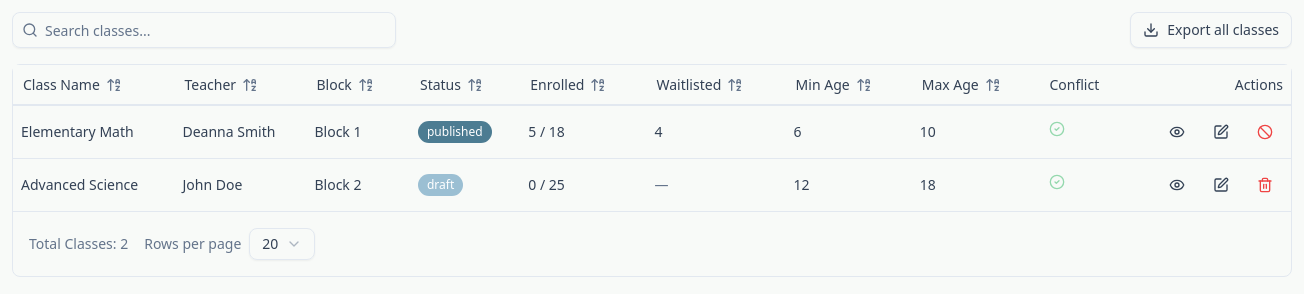
Test: AdminClassTable › clears search when X button is clicked
Type "Math" into the field with test id "class-search-input".
click(204, 30); type("Math")  # box [12, 12, 396, 48]
Wait 300 ms
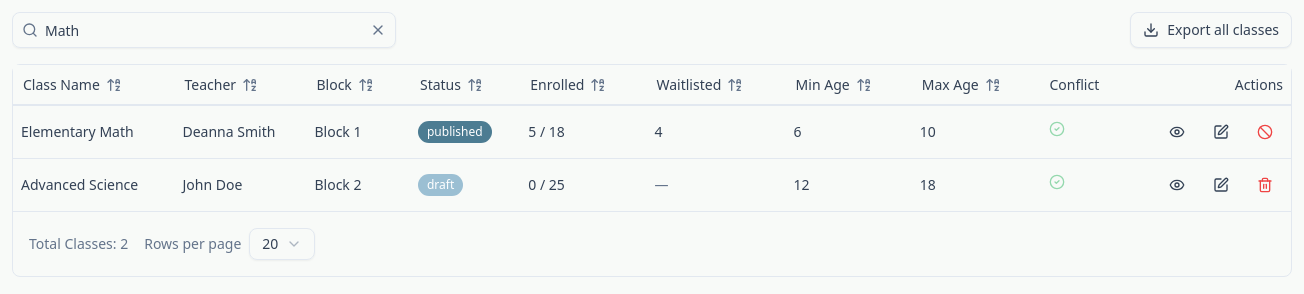
Click the button with test id "class-search-clear".
click(378, 30)  # box [370, 22, 386, 38]
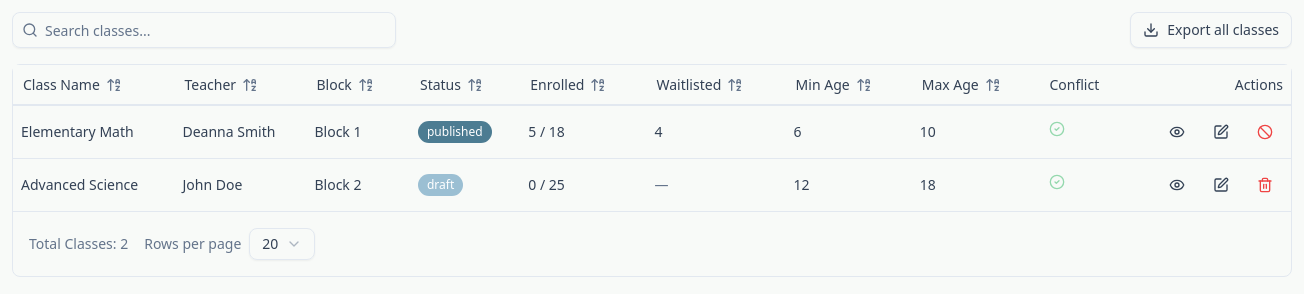
Result: the field with test id "class-search-input" is empty at [12, 12, 396, 48]
